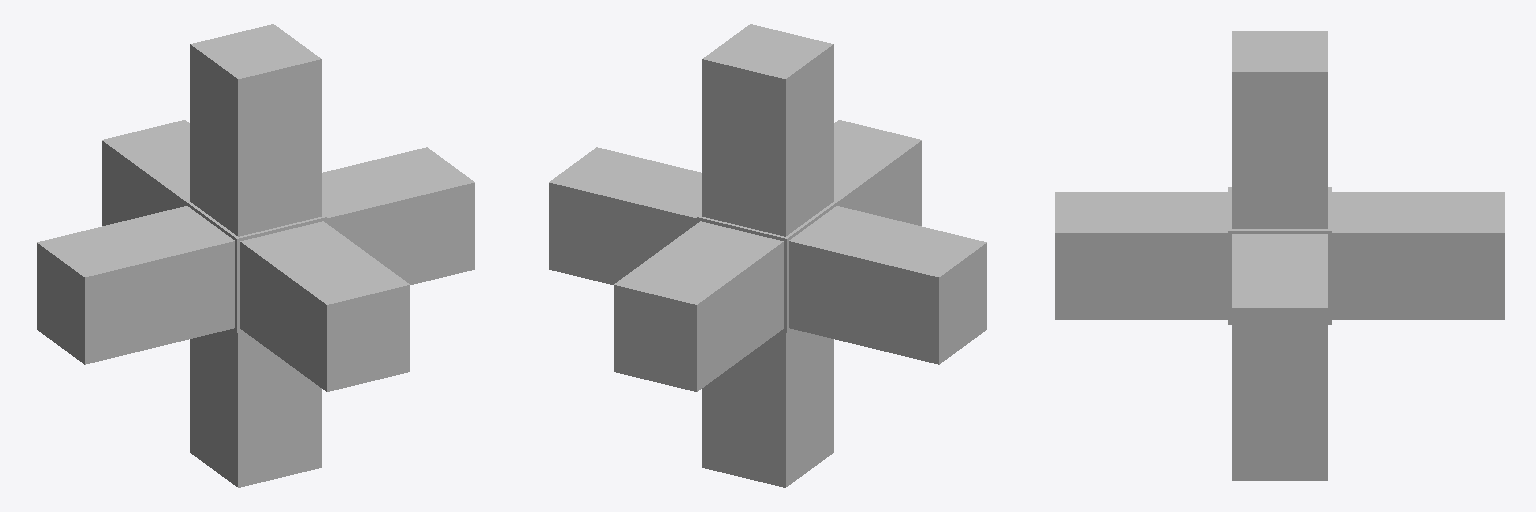
The model's file is pipe - Kopie.obj.
3 renders of one model, left to right at view 1: azimuth 30°, elevation 25°; view 2: azimuth 150°, elevation 25°; view 3: azimuth 270°, elevation 25°, orthographic.
Visible parts, largest first — view 1: Cube.010, Cube.008, Cube.011, Cube.009, Cube.012, Cube.013, Cube.007; view 2: Cube.010, Cube.008, Cube.013, Cube.009, Cube.012, Cube.011, Cube.007; view 3: Cube.011, Cube.013, Cube.010, Cube.012, Cube.009, Cube.007.
Boxes of the visible parts, x1=… form: Cube.010: x1=190, y1=24, x2=321, y2=236; Cube.008: x1=37, y1=206, x2=234, y2=364; Cube.011: x1=240, y1=221, x2=409, y2=391; Cube.009: x1=190, y1=329, x2=321, y2=487; Cube.012: x1=322, y1=147, x2=474, y2=284; Cube.013: x1=102, y1=120, x2=189, y2=225; Cube.007: x1=185, y1=200, x2=326, y2=332; Cube.010: x1=702, y1=24, x2=833, y2=236; Cube.008: x1=789, y1=206, x2=986, y2=364; Cube.013: x1=614, y1=221, x2=783, y2=391; Cube.009: x1=702, y1=329, x2=833, y2=487; Cube.012: x1=549, y1=147, x2=701, y2=284; Cube.011: x1=834, y1=120, x2=921, y2=225; Cube.007: x1=697, y1=200, x2=838, y2=332; Cube.011: x1=1055, y1=192, x2=1227, y2=319; Cube.013: x1=1332, y1=192, x2=1504, y2=319; Cube.010: x1=1232, y1=31, x2=1327, y2=228; Cube.012: x1=1232, y1=234, x2=1327, y2=394; Cube.009: x1=1232, y1=395, x2=1327, y2=480; Cube.007: x1=1228, y1=187, x2=1331, y2=324.
Bounding box in the file's own units: 2 × 2 × 2.